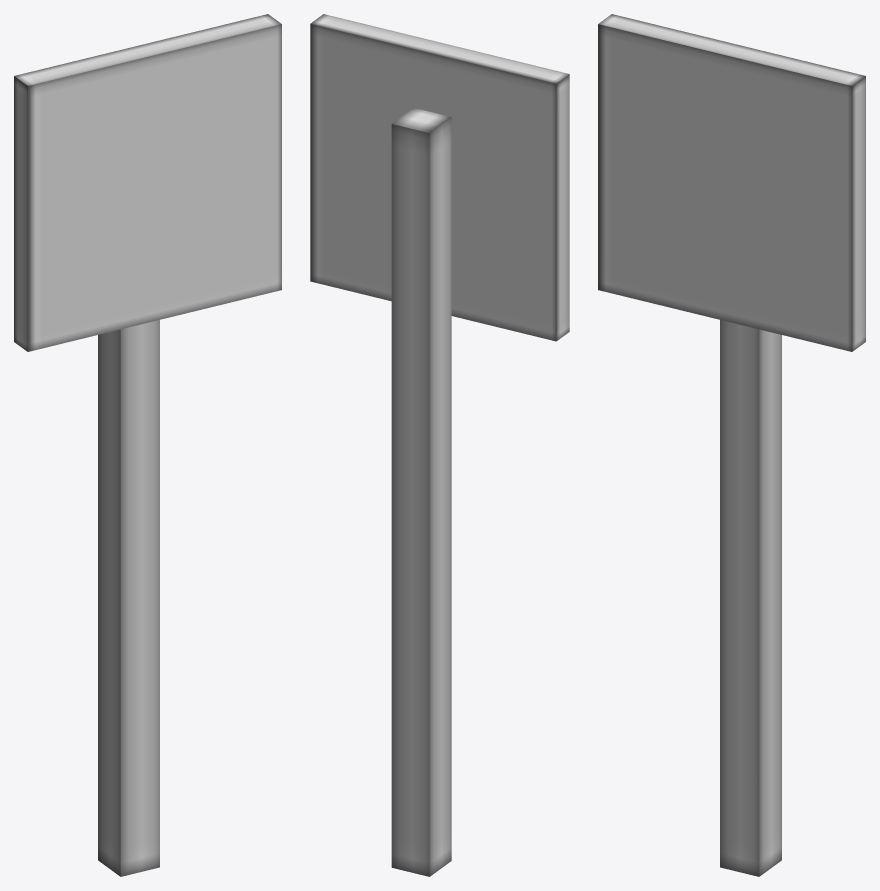
File: Sign-03.fbx
3 views of the same model, side by side, from view 1: azimuth 30°, elevation 25°; view 2: azimuth 150°, elevation 25°; view 3: azimuth 330°, elevation 25° (orthographic). The views are drawn at different scales.
Visible parts, largest first — view 1: Sign_03; view 2: Sign_03; view 3: Sign_03.
Boxes of the visible parts, x1,y1,x2,y2 form: Sign_03: (14,14,281,876); Sign_03: (310,14,569,876); Sign_03: (598,14,865,876).
Size of the model in its own units: 0.307 by 0.9556 by 0.0779.
